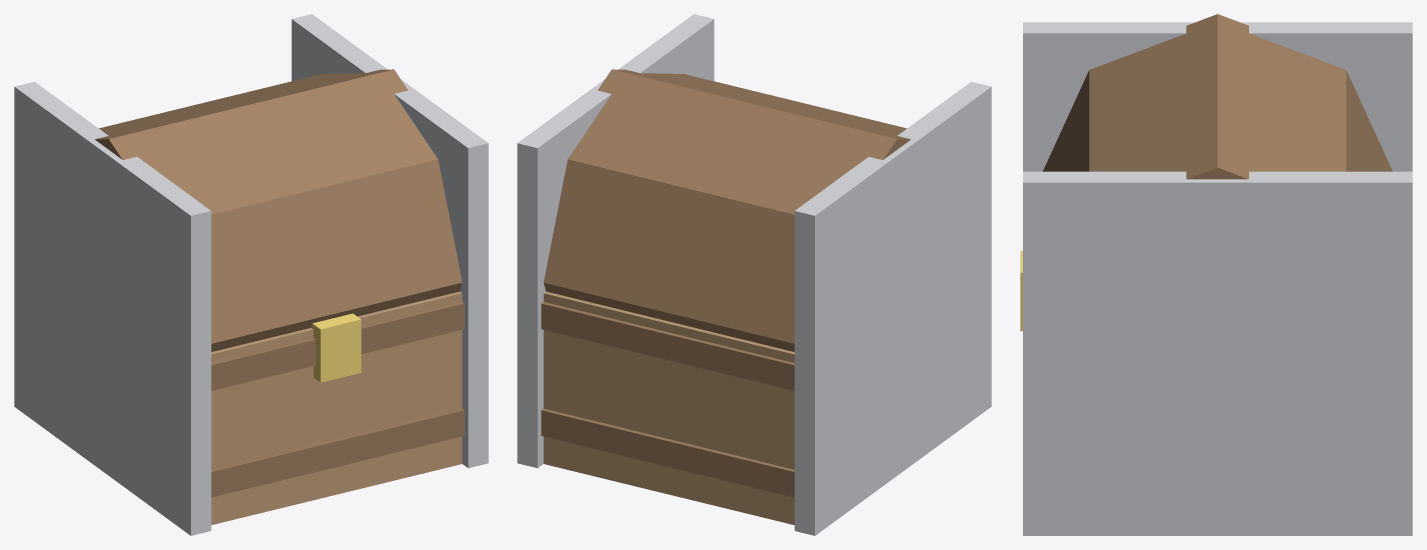
The model's file is SupplyCache.fbx.
3 views of the same model, side by side, from view 1: azimuth 30°, elevation 25°; view 2: azimuth 150°, elevation 25°; view 3: azimuth 270°, elevation 25° (orthographic). The views are drawn at different scales.
Visible parts, largest first — view 1: Body; view 2: Body; view 3: Body.
Boxes of the visible parts, x1=… form: Body: x1=14, y1=14, x2=488, y2=535; Body: x1=517, y1=14, x2=991, y2=535; Body: x1=1020, y1=14, x2=1412, y2=535.
Bounding box in the file's own units: 1.46 × 1.55 × 1.51.
